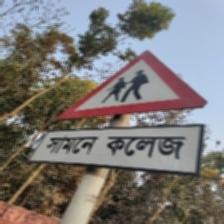College-in-front: (32, 50, 224, 182)
